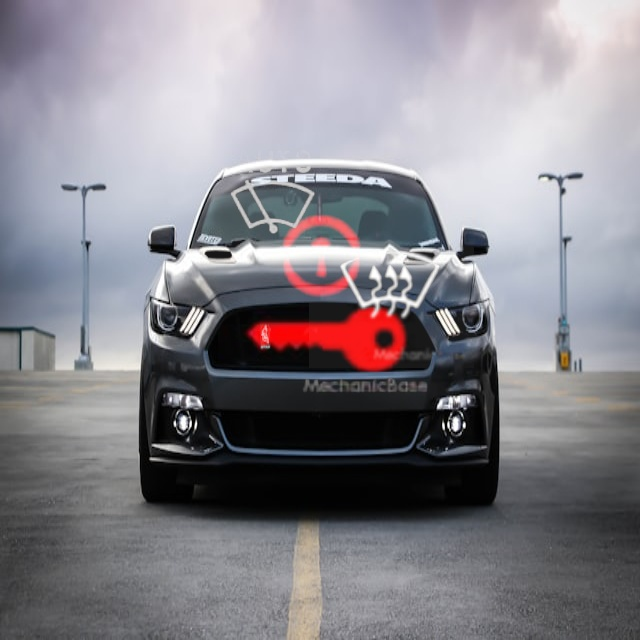symbol: (218, 185, 436, 403), (309, 203, 474, 368), (205, 124, 342, 261)
